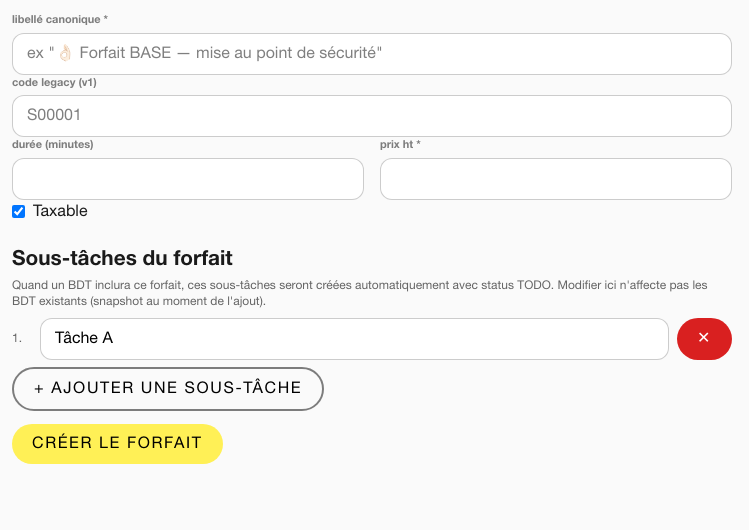
Test: ForfaitForm › bouton 'Ajouter une sous-tâche' → ajoute un input vide
What coordinates should you click on to do the following:
click the button "+ Ajouter une sous-tâche"
I would click on:
 (168, 389)
Its box is [12, 367, 324, 411].
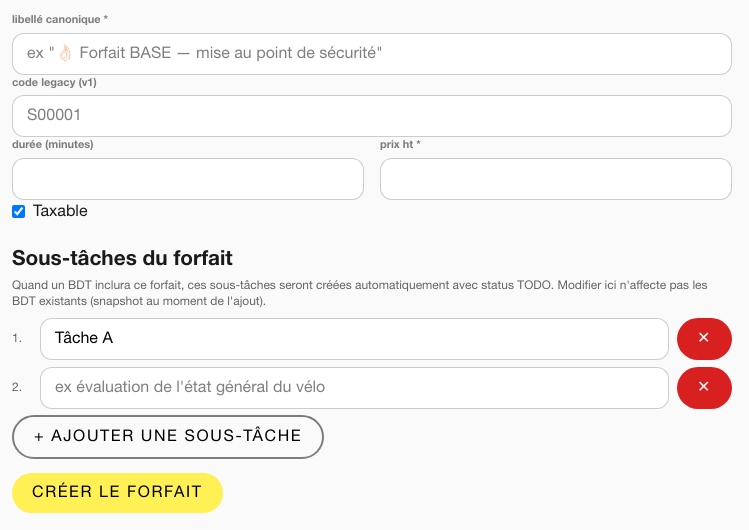
Check: the number of fields with placeholder "ex évaluation de l'état général du vélo" is 2, box [40, 318, 669, 360]; [40, 367, 669, 409]
